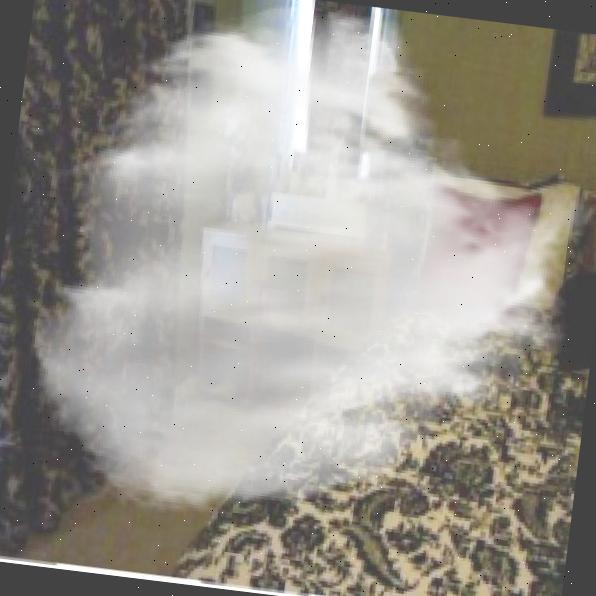smoke: (10, 0, 596, 563)
